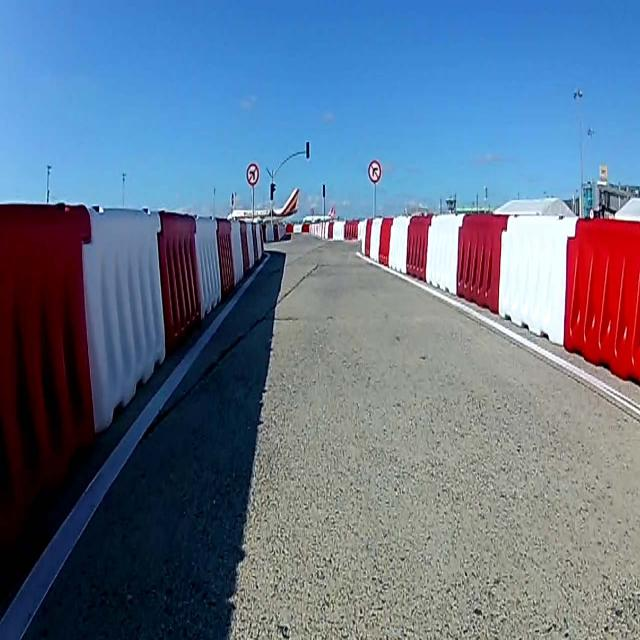sagadonulmez: (368, 160, 382, 182)
soladonulmez: (246, 163, 260, 186)
